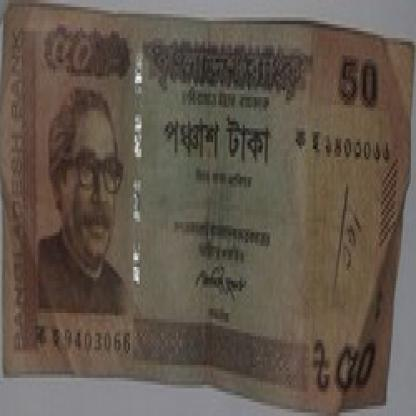Fifty taka: (308, 326, 384, 412), (38, 14, 93, 100)
